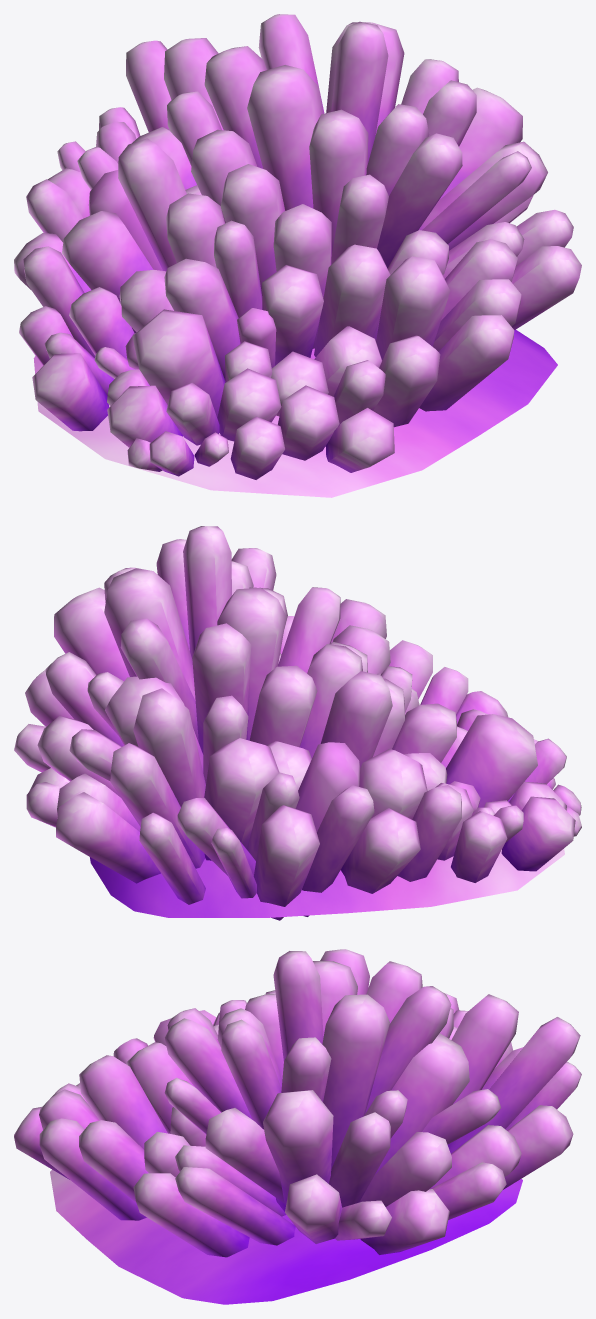
The model's file is plant_60.fbx.
3 renders of one model, top to bottom at view 1: azimuth 30°, elevation 25°; view 2: azimuth 150°, elevation 25°; view 3: azimuth 270°, elevation 25°, orthographic. The views are drawn at different scales.
Visible parts, largest first — view 1: shanhu_04_coral_p0039_coral_p0040_coral_p0043_coral_p45; view 2: shanhu_04_coral_p0039_coral_p0040_coral_p0043_coral_p45; view 3: shanhu_04_coral_p0039_coral_p0040_coral_p0043_coral_p45.
Part boxes in pixels (box(x1,y1,x2,y2)): shanhu_04_coral_p0039_coral_p0040_coral_p0043_coral_p45: box(14, 14, 581, 497); shanhu_04_coral_p0039_coral_p0040_coral_p0043_coral_p45: box(14, 526, 581, 920); shanhu_04_coral_p0039_coral_p0040_coral_p0043_coral_p45: box(14, 949, 581, 1304).
Bounding box in the file's own units: 3.05 × 1.9 × 3.15.
